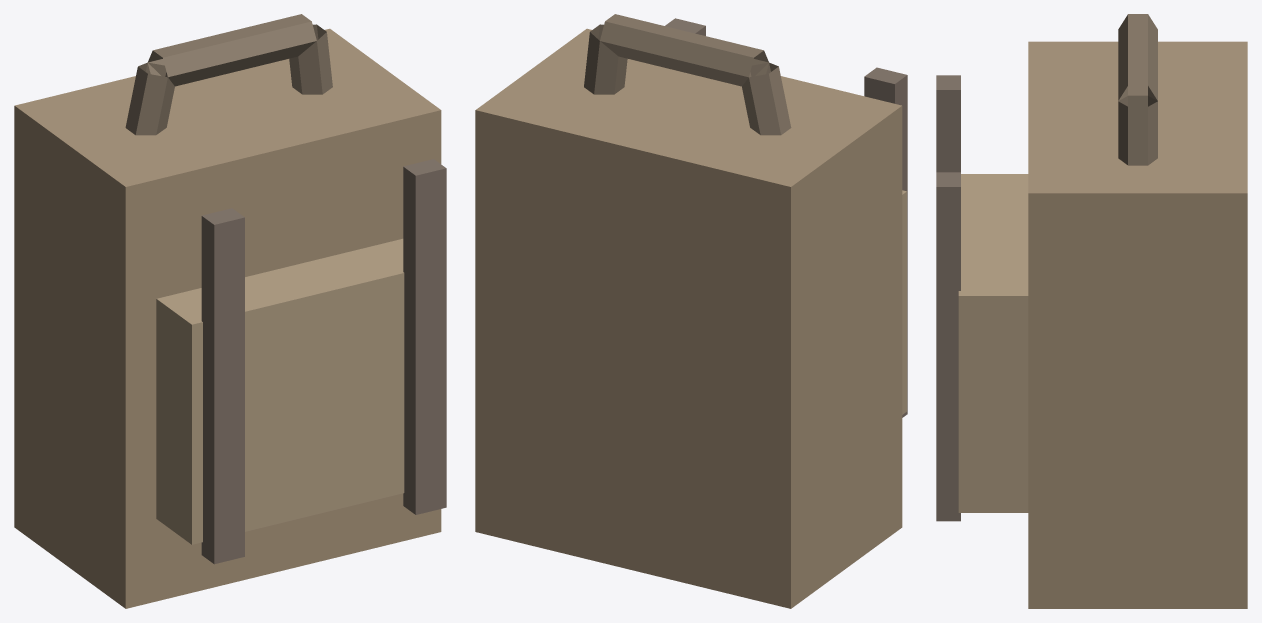
3 renders of one model, left to right at view 1: azimuth 30°, elevation 25°; view 2: azimuth 150°, elevation 25°; view 3: azimuth 270°, elevation 25°, orthographic.
Visible parts, largest first — view 1: P03; view 2: P03; view 3: P03.
Part boxes in pixels (bbox=[...]): P03: bbox=[14, 14, 446, 608]; P03: bbox=[475, 14, 907, 608]; P03: bbox=[936, 14, 1247, 608].
Size of the model in its own units: 0.36 by 0.5373 by 0.3125.
